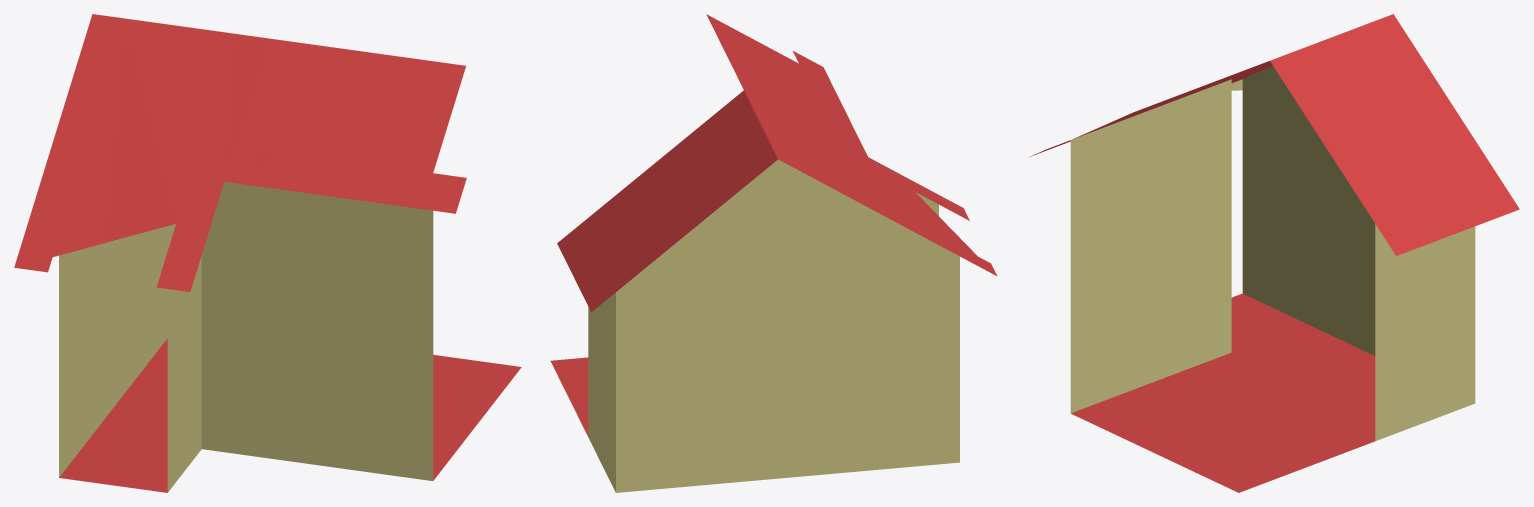
3 views of the same model, side by side, from view 1: azimuth 30°, elevation 25°; view 2: azimuth 150°, elevation 25°; view 3: azimuth 270°, elevation 25° (orthographic). The views are drawn at different scales.
Bounding box in the file's own units: 12.28 × 11.75 × 8.68.
